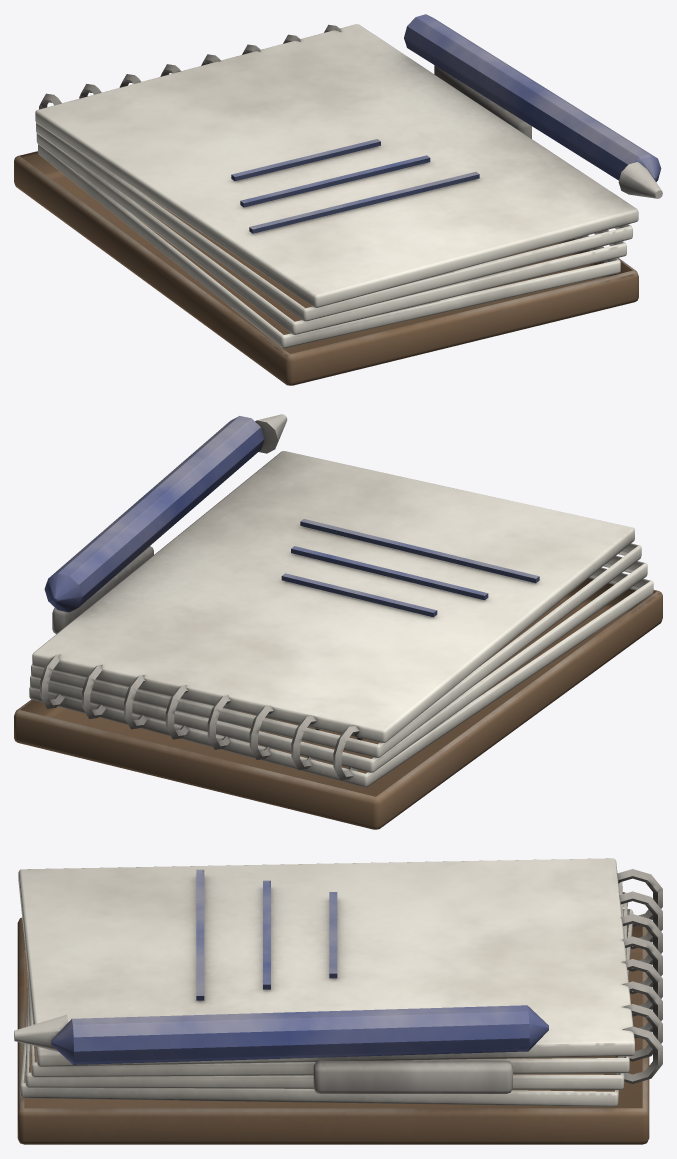
The model's file is paper_and_pen.fbx.
3 views of the same model, one above another, from view 1: azimuth 30°, elevation 25°; view 2: azimuth 150°, elevation 25°; view 3: azimuth 270°, elevation 25° (orthographic). The views are drawn at different scales.
Parts seen in each view (by area): view 1: Body; view 2: Body; view 3: Body.
Boxes of the visible parts, x1,y1,x2,y2 form: Body: [14, 14, 662, 385]; Body: [14, 414, 662, 829]; Body: [14, 858, 662, 1144].
Bounding box in the file's own units: 0.7889 × 0.2333 × 0.9761.
1 material, 1 textured.
